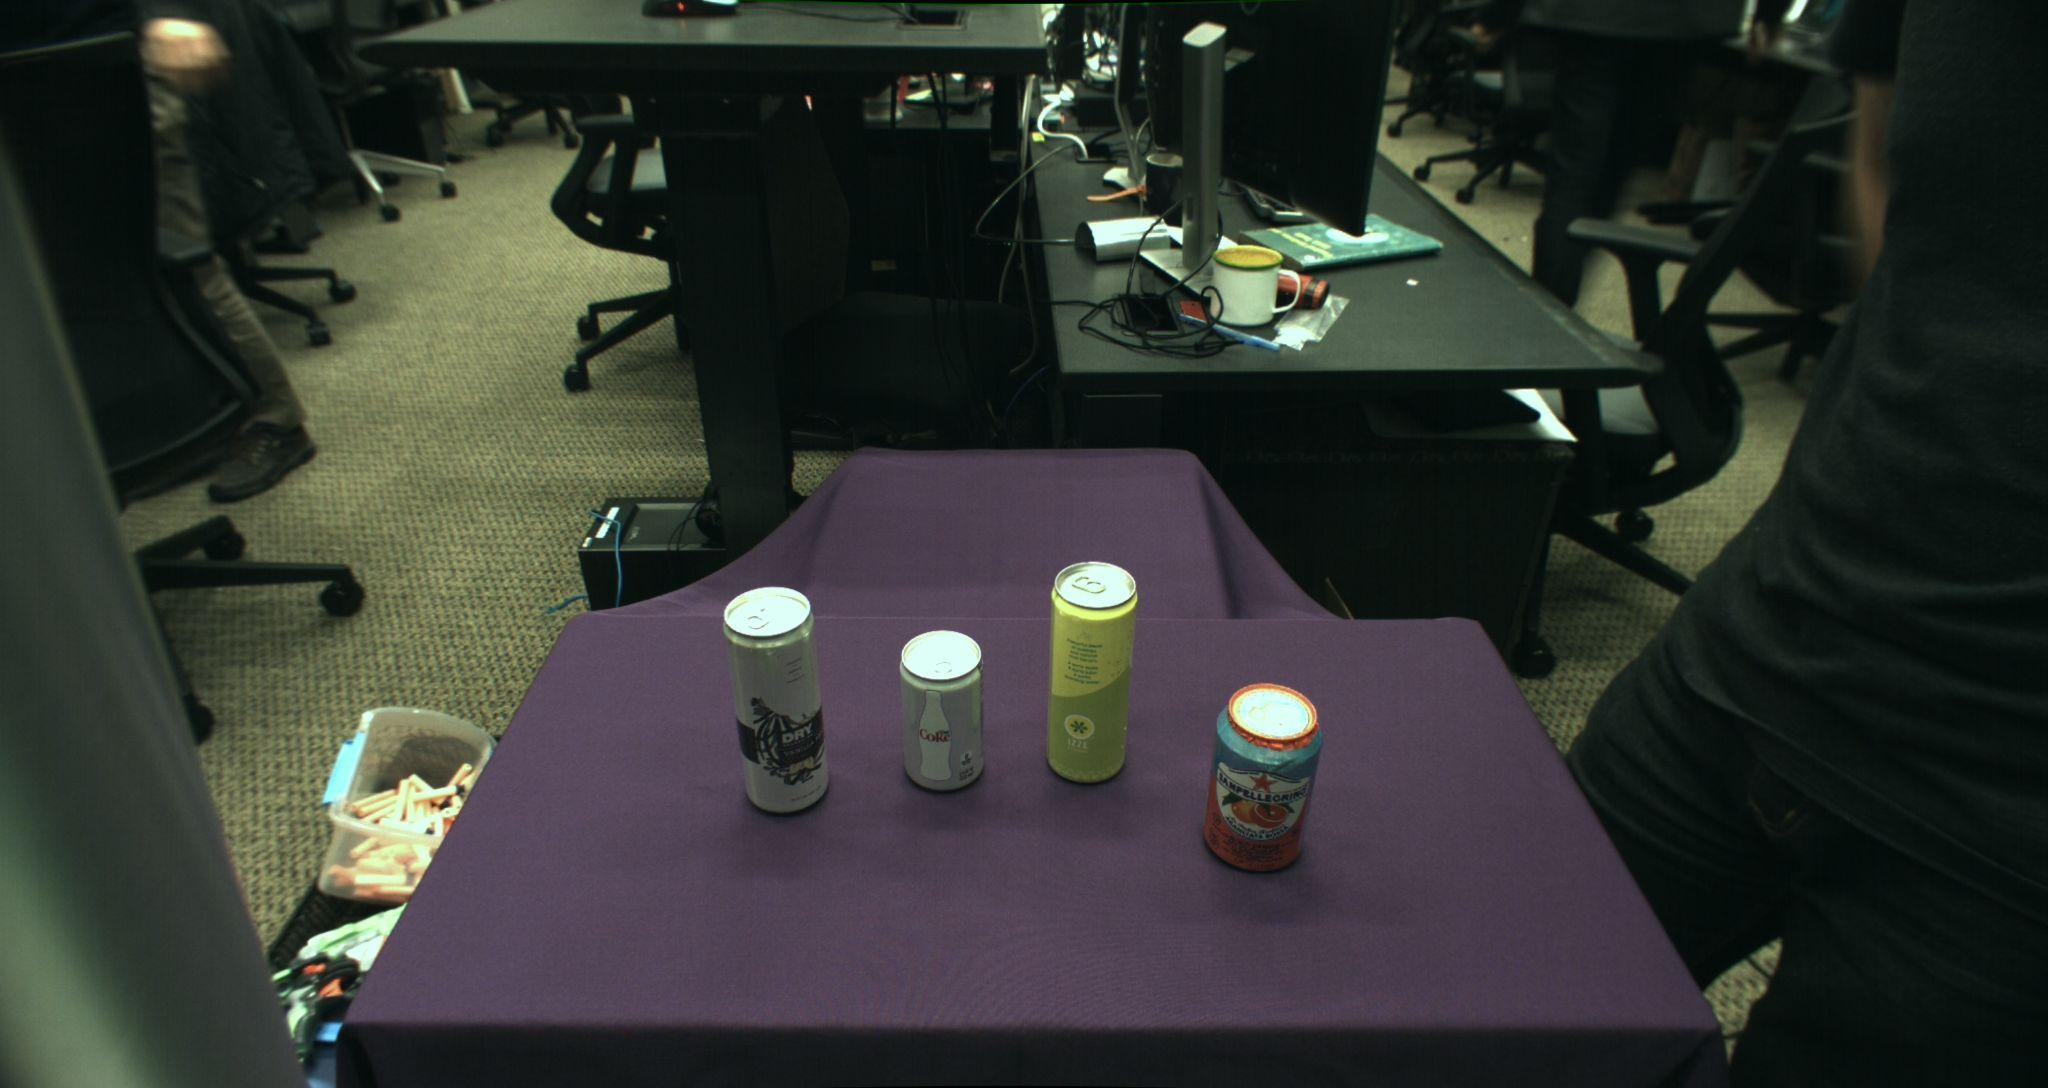can_diet_coke_small: (899, 630, 986, 791)
can_dry_sparkling_vanilla_bean: (722, 585, 832, 816)
can_izze_fusions_lemon_lime: (1046, 560, 1139, 782)
can_sanpellegrino_blood_orange: (1201, 682, 1323, 874)
